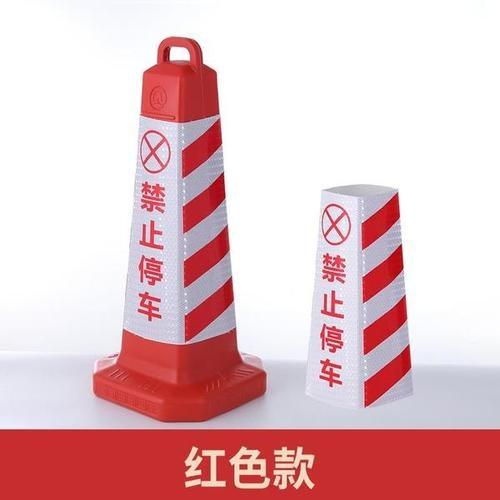cone_barrel: (90, 45, 272, 416), (293, 172, 423, 413)
